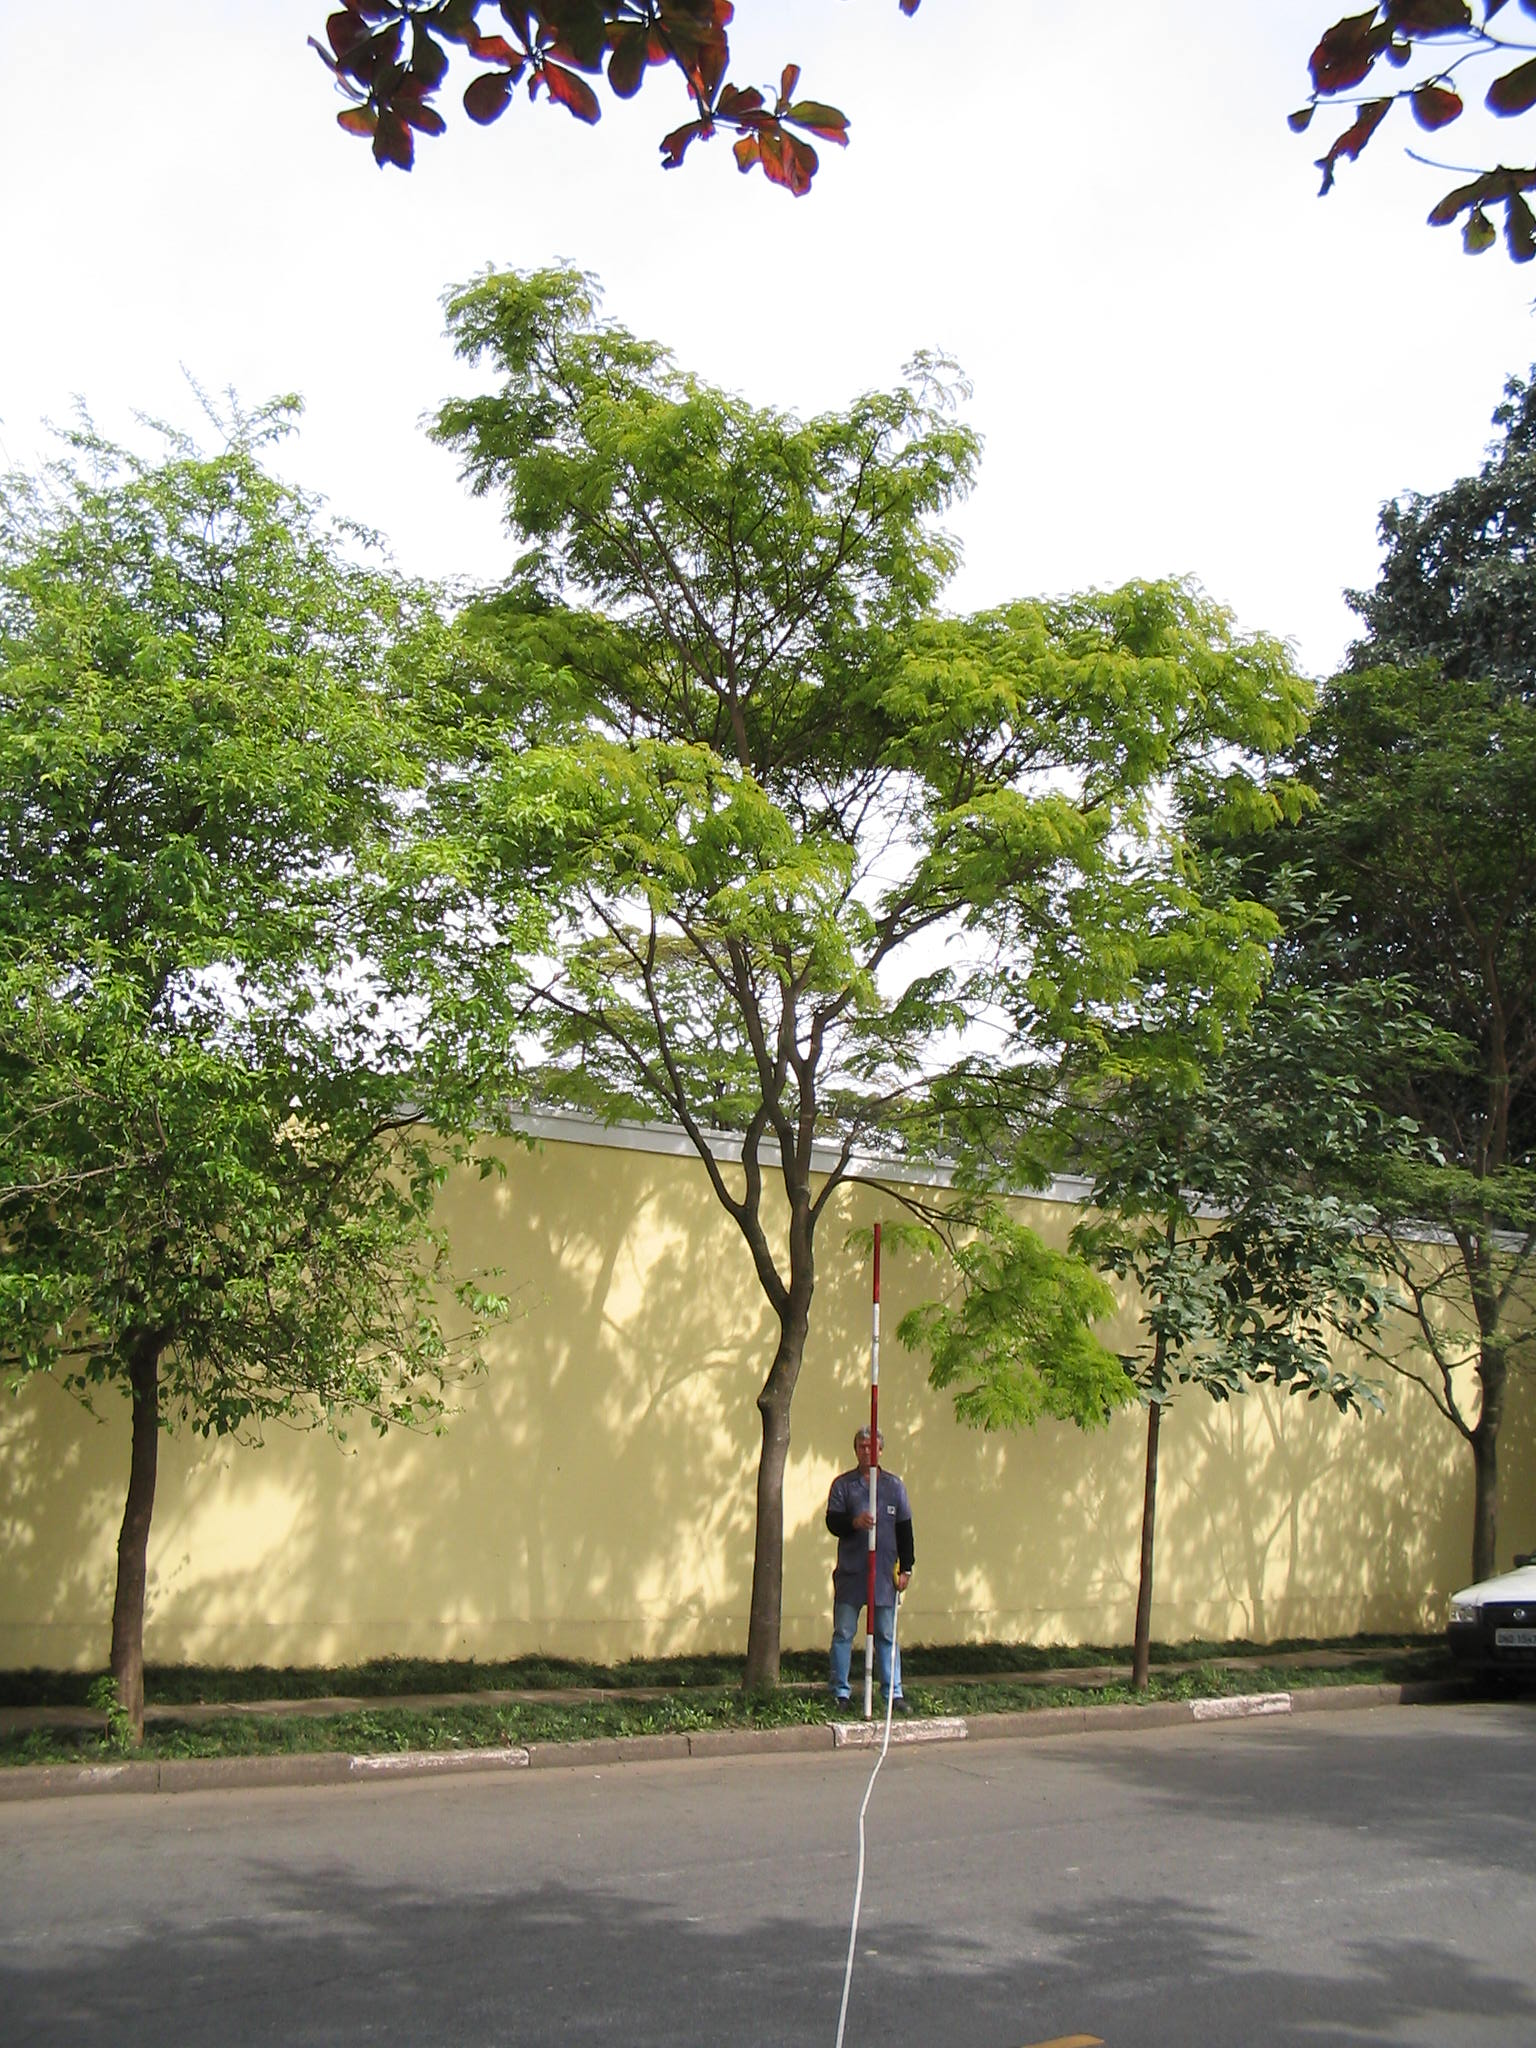crown: (395, 271, 1302, 1421), (15, 382, 516, 1426)
stem: (73, 1382, 194, 1729), (720, 1311, 828, 1695)
stick: (842, 1226, 920, 1716)
tree: (389, 268, 1304, 1692), (6, 376, 528, 1725)
